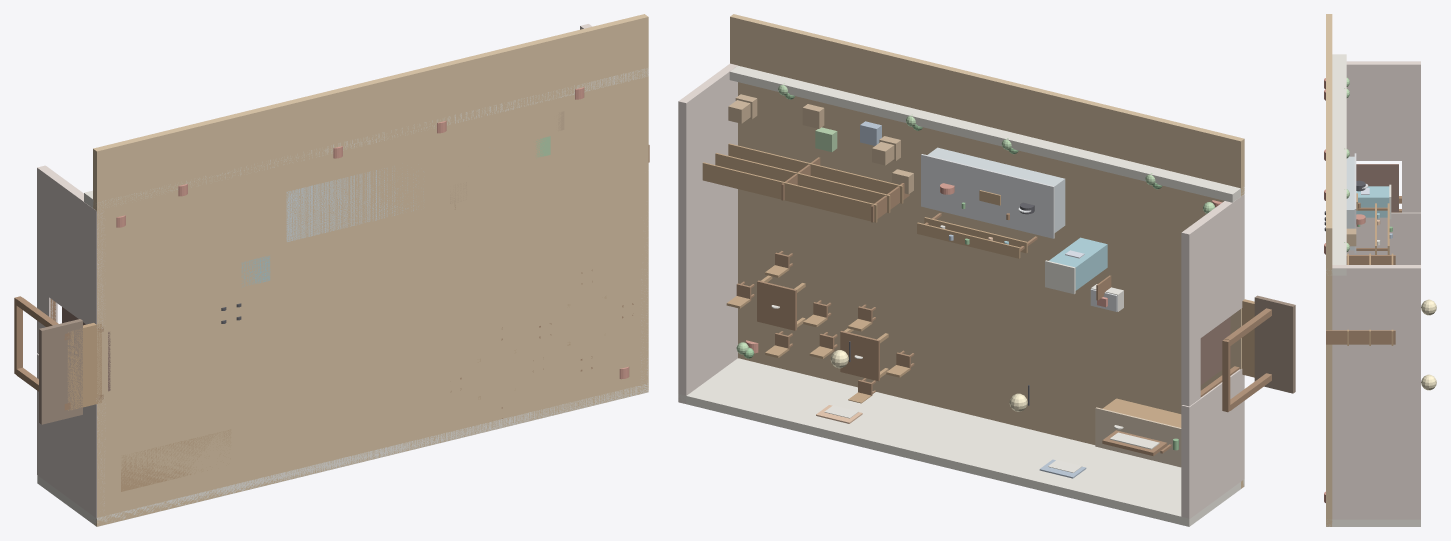
Rendered from restaurant_v2.glb.
3 renders of one model, left to right at view 1: azimuth 30°, elevation 25°; view 2: azimuth 150°, elevation 25°; view 3: azimuth 270°, elevation 25°, orthographic. The views are drawn at different scales.
Parts seen in each view (by area): view 1: Floor, Wall_L2, Wall_Back, Wall_L1, Kitchen, Entry_Floor, Entry, Counter, Wall_F; view 2: Floor, Wall_Back, Wall_R, Wall_F, Wall_L2, Wall_L1, KitchenTop, Entry_Floor, CounterTop, Kitchen, SS_A_2, TT_B (+14 smaller); view 3: Wall_R, Wall_L2, Floor, Wall_F, Wall_L1, Door, SR_B, Wall_Lint, Fridge, Wall_Back, Kitchen, SL_A (+5 smaller).
Boxes of the visible parts, bbox=[...] form: Floor: bbox=[93, 14, 648, 526]; Wall_L2: bbox=[37, 165, 105, 328]; Wall_Back: bbox=[37, 384, 648, 526]; Wall_L1: bbox=[37, 354, 105, 518]; Kitchen: bbox=[286, 166, 423, 241]; Entry_Floor: bbox=[39, 319, 82, 424]; Entry: bbox=[67, 323, 101, 410]; Counter: bbox=[121, 429, 231, 491]; Wall_F: bbox=[84, 68, 648, 209]; Floor: bbox=[730, 14, 1244, 488]; Wall_Back: bbox=[678, 358, 1244, 526]; Wall_R: bbox=[678, 63, 737, 403]; Wall_F: bbox=[729, 65, 1244, 202]; Wall_L2: bbox=[1181, 194, 1244, 346]; Wall_L1: bbox=[1181, 369, 1244, 518]; KitchenTop: bbox=[921, 154, 1054, 238]; Entry_Floor: bbox=[1254, 295, 1295, 393]; CounterTop: bbox=[1095, 407, 1181, 467]; Kitchen: bbox=[927, 147, 1065, 232]; SS_A_2: bbox=[780, 181, 877, 222]; TT_B: bbox=[757, 280, 796, 330]; Wall_R: bbox=[1332, 265, 1420, 519]; Wall_L2: bbox=[1346, 61, 1420, 160]; Floor: bbox=[1326, 14, 1332, 526]; Wall_F: bbox=[1326, 54, 1346, 275]; Wall_L1: bbox=[1346, 212, 1420, 264]; Door: bbox=[1356, 164, 1398, 212]; SR_B: bbox=[1326, 330, 1395, 344]; Wall_Lint: bbox=[1402, 161, 1420, 212]; Fridge: bbox=[1356, 186, 1389, 217]; Wall_Back: bbox=[1326, 519, 1420, 526]; Kitchen: bbox=[1346, 156, 1354, 250]; SL_A: bbox=[1346, 255, 1395, 264].
Size of the model in its own units: 17.7 by 10.4 by 3.56.
